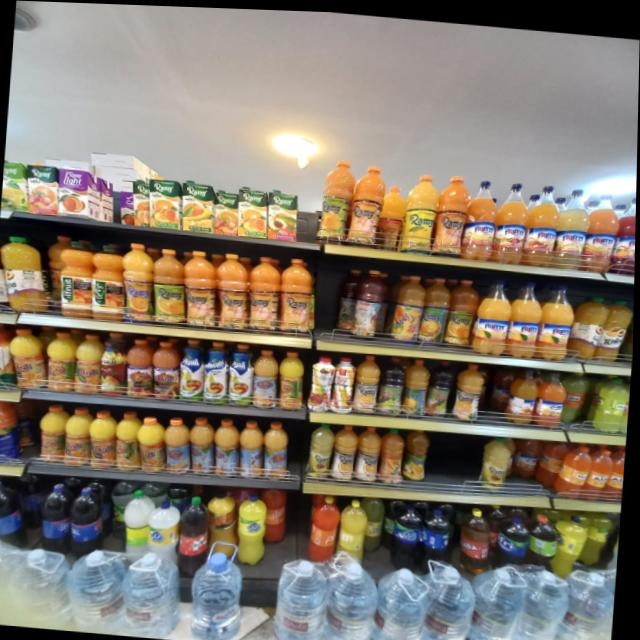el_arabi_plastique: (8, 325, 50, 391), (46, 330, 82, 394), (75, 332, 108, 395), (152, 339, 184, 401), (125, 337, 157, 399), (101, 333, 132, 396), (203, 340, 233, 404), (252, 345, 282, 408), (228, 343, 257, 407), (278, 347, 307, 409), (180, 339, 208, 403)
hamoud_plastique: (309, 491, 343, 562), (338, 495, 371, 562)
ifri_plastique: (237, 490, 272, 564), (421, 501, 457, 571), (392, 502, 426, 569), (525, 509, 562, 569), (150, 500, 182, 566), (498, 512, 529, 568)
ifruit_plastique: (90, 239, 131, 319), (57, 239, 99, 317)
pepsi_plastique: (70, 483, 109, 558), (39, 483, 79, 555), (0, 481, 33, 551)
ramy_carton: (147, 176, 188, 230), (24, 163, 63, 216), (179, 179, 217, 231), (236, 185, 272, 238), (56, 166, 93, 216), (265, 188, 300, 240), (1, 160, 34, 214), (212, 189, 242, 235), (130, 177, 154, 226)
ramy_plastique: (582, 188, 623, 271), (432, 171, 472, 256), (554, 183, 594, 266), (402, 169, 442, 252), (348, 160, 387, 244), (117, 241, 157, 322), (493, 177, 532, 260), (524, 180, 563, 263), (319, 157, 355, 246), (475, 274, 514, 353), (465, 176, 502, 259), (508, 276, 547, 354), (181, 248, 220, 326), (538, 279, 578, 355), (150, 246, 188, 325), (214, 251, 253, 327), (177, 494, 215, 572), (247, 254, 284, 330), (279, 254, 315, 332), (354, 266, 390, 339), (393, 271, 427, 341), (447, 277, 481, 346), (420, 273, 453, 343), (39, 402, 73, 465), (64, 405, 97, 468), (88, 408, 121, 471), (536, 365, 571, 424), (136, 414, 169, 475), (115, 409, 146, 472), (163, 413, 195, 474), (380, 182, 410, 247), (426, 356, 458, 416), (509, 363, 542, 421), (455, 359, 486, 419), (213, 415, 243, 477), (188, 414, 218, 475), (354, 352, 384, 412), (403, 355, 433, 415), (380, 354, 409, 415), (332, 421, 361, 482), (481, 432, 512, 489), (332, 353, 361, 413), (379, 423, 408, 483), (263, 418, 292, 478), (355, 422, 384, 482), (239, 418, 268, 478), (616, 188, 637, 269), (309, 419, 337, 479), (311, 352, 339, 412), (404, 425, 432, 482)
tchina_plastique: (2, 230, 47, 315), (596, 294, 635, 359)
